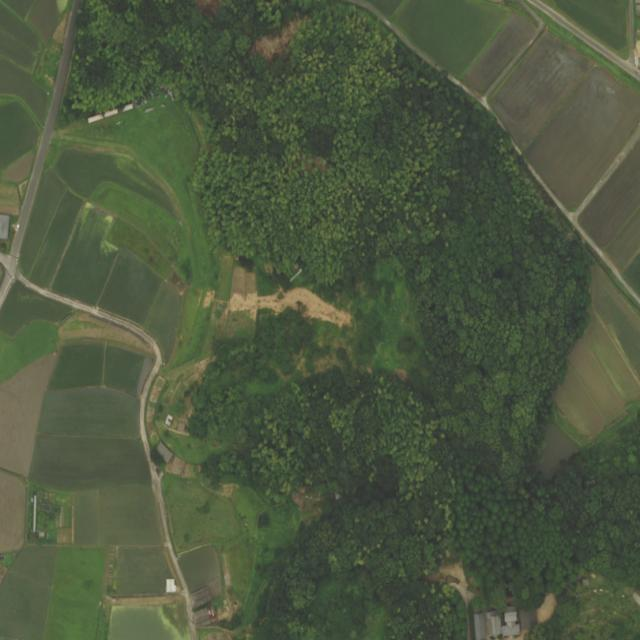landslide: (228, 287, 351, 327)
